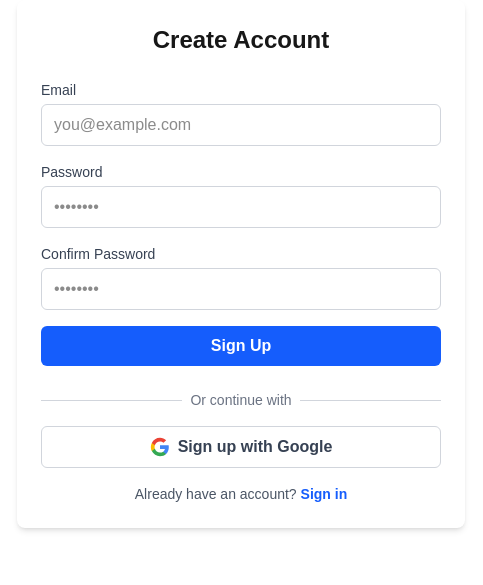
Test: RegisterForm › Password Strength Indicator › should show password hint text
Type "Password123!" into the password field labelled "Password". click: (241, 207)
box: [41,186,441,228]
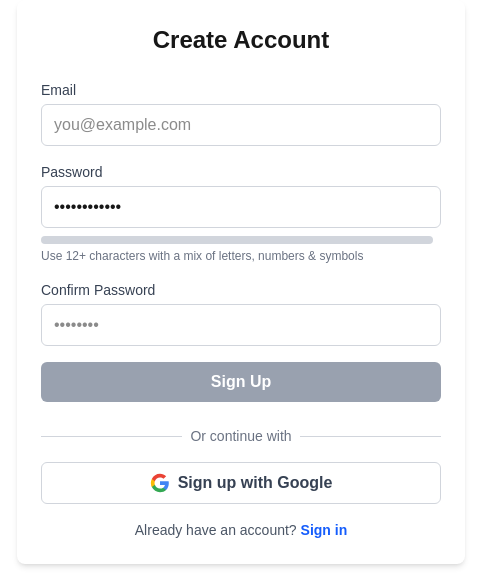
Now the text "Use 12+ characters with a mix of letters, numbers & symbols" is shown, box [41,249,364,263]
